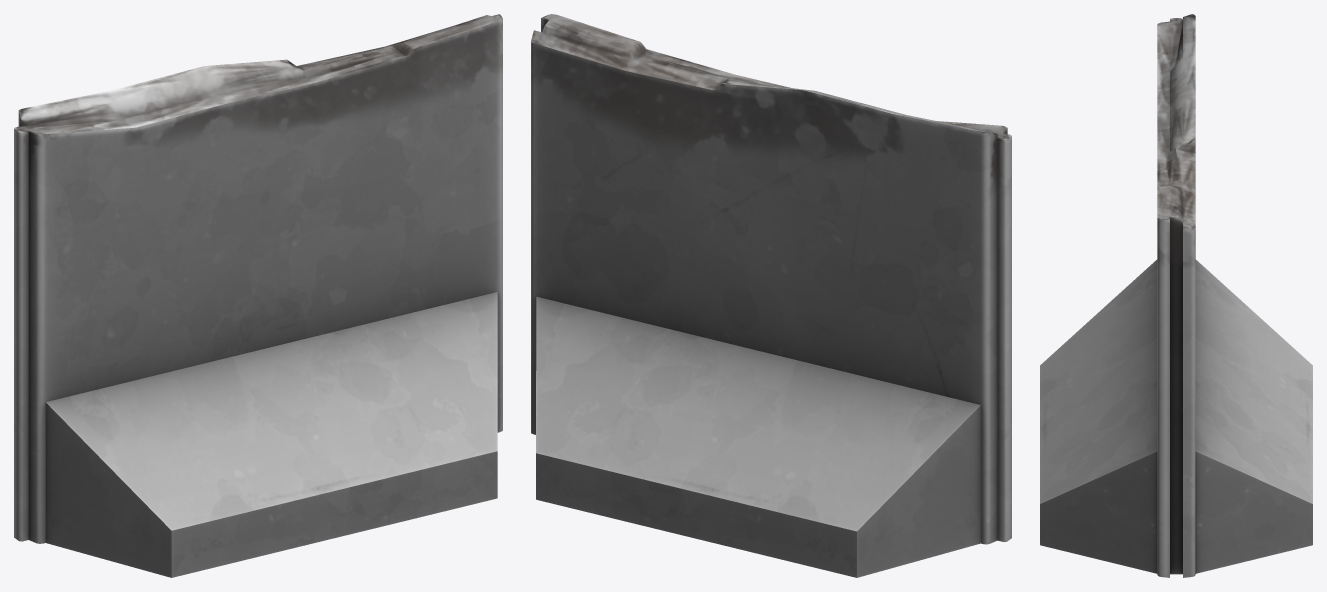
The model's file is BarrierConcrete01_3.FBX.
3 views of the same model, side by side, from view 1: azimuth 30°, elevation 25°; view 2: azimuth 150°, elevation 25°; view 3: azimuth 270°, elevation 25° (orthographic). The views are drawn at different scales.
Visible parts, largest first — view 1: BarrierConcrete01_3; view 2: BarrierConcrete01_3; view 3: BarrierConcrete01_3.
Boxes of the visible parts, bbox=[...] form: BarrierConcrete01_3: bbox=[14, 14, 502, 577]; BarrierConcrete01_3: bbox=[531, 14, 1011, 577]; BarrierConcrete01_3: bbox=[1040, 14, 1312, 577].
Size of what is drawn, in the model's own units: 1.27 by 1.06 by 0.7195.
